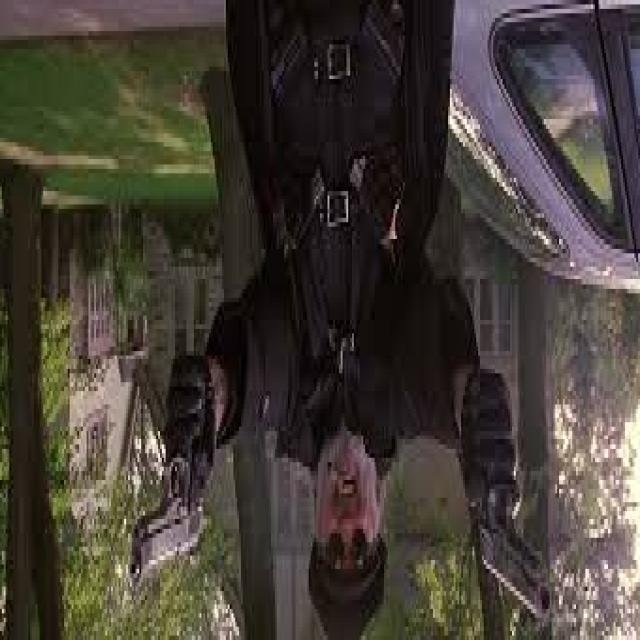gun: (462, 402, 561, 630), (126, 372, 212, 614), (346, 129, 418, 299), (261, 140, 331, 310), (250, 0, 312, 102), (359, 0, 418, 89)
